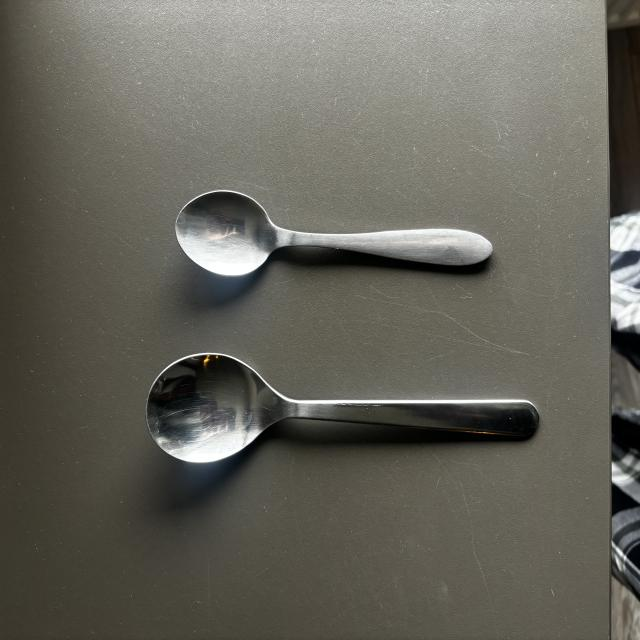spoon: (145, 353, 540, 467), (177, 191, 482, 279)
